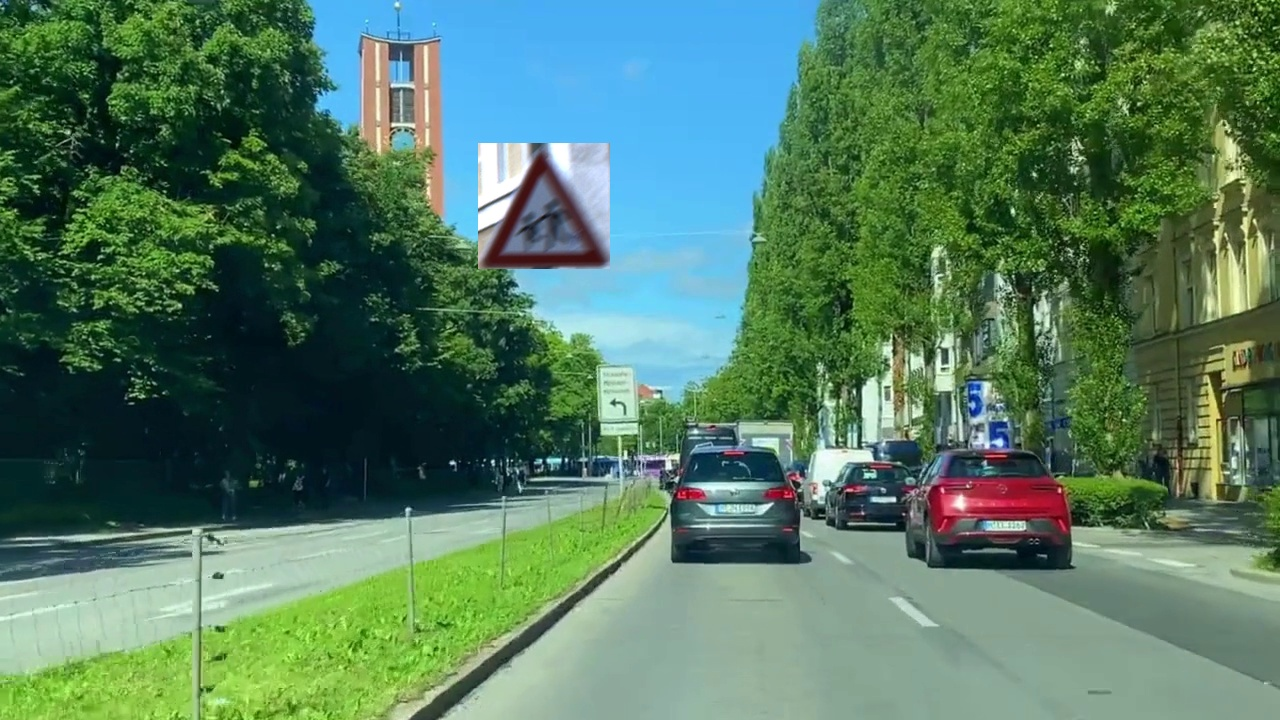Children: (478, 143, 610, 269)
